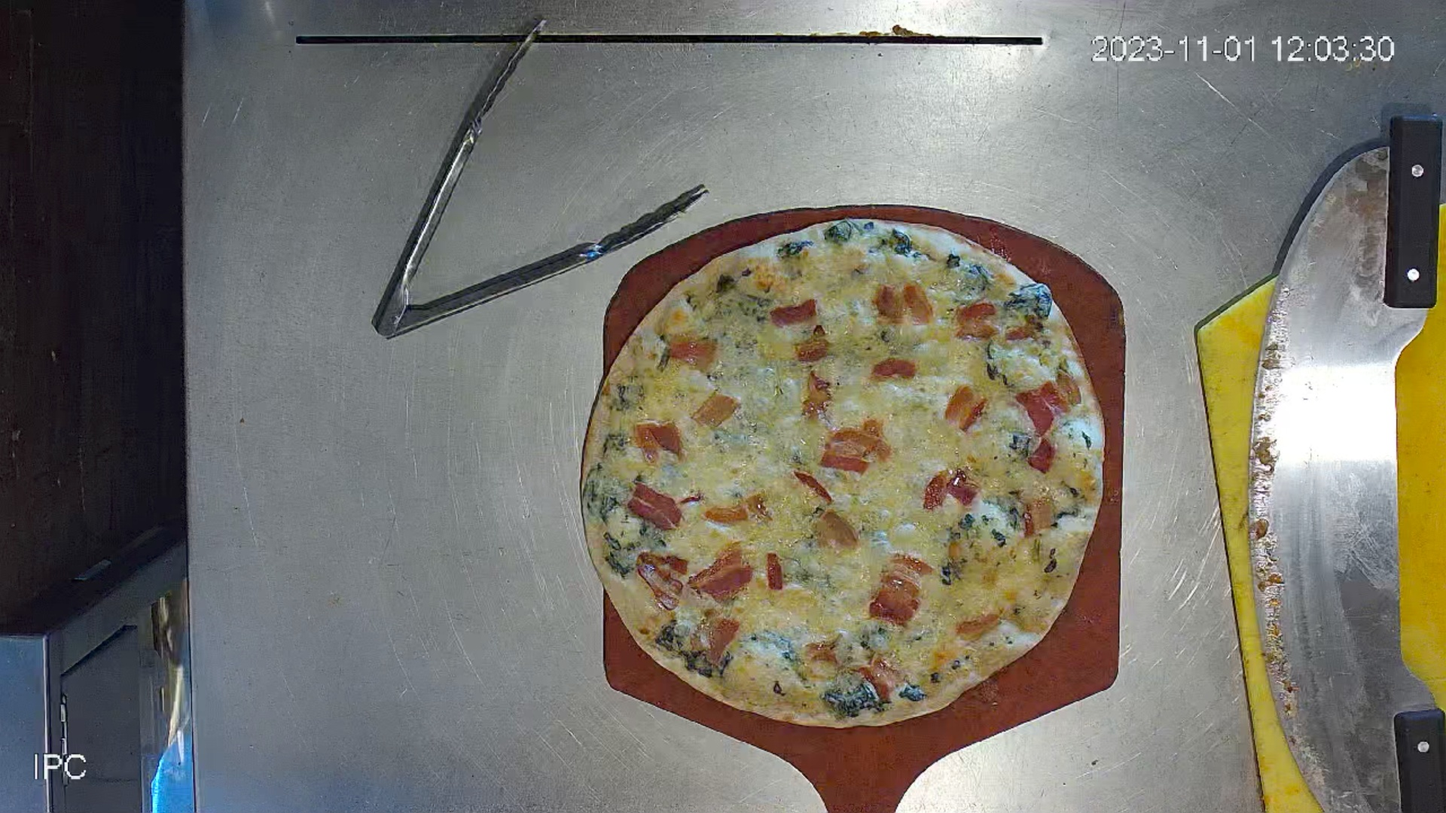pepporoni: (577, 215, 1105, 727)
